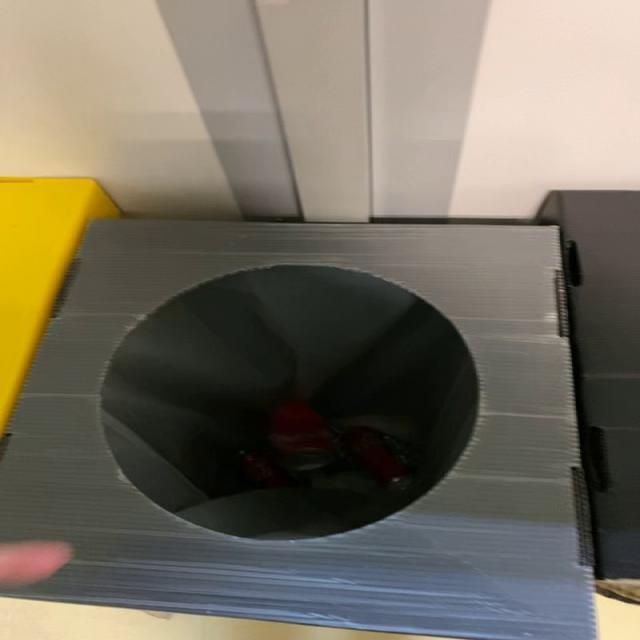Bin: (1, 222, 596, 640)
Metal: (243, 401, 340, 488), (269, 400, 339, 472), (344, 429, 407, 486)
